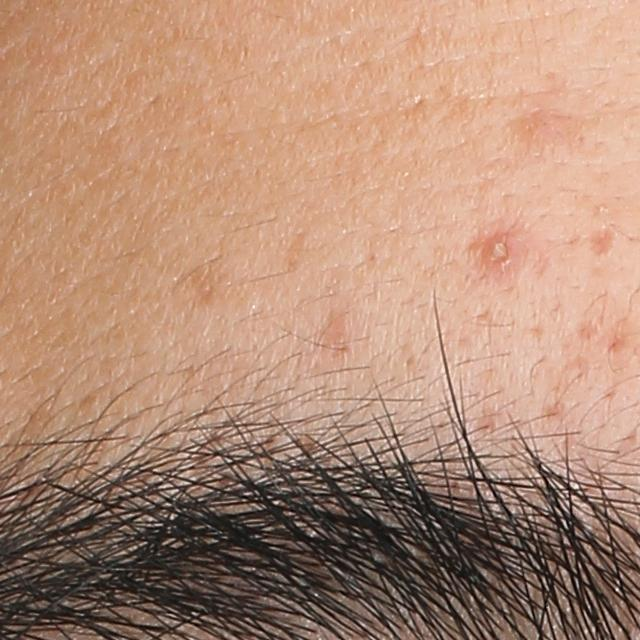atrophic_scar: (585, 223, 621, 261)
pustule: (475, 227, 529, 288)
